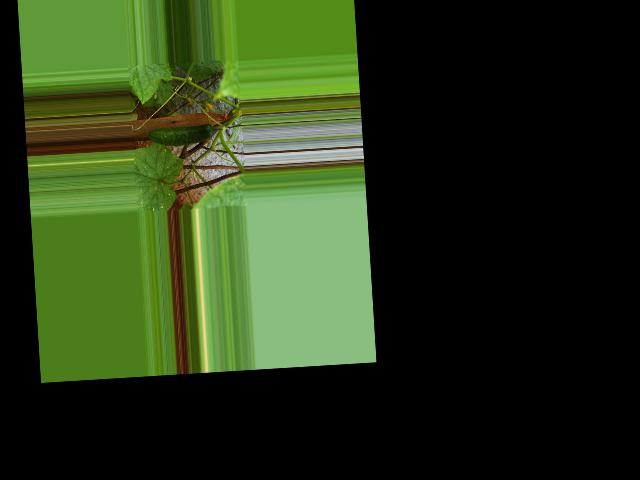cucumber: (147, 123, 215, 147)
